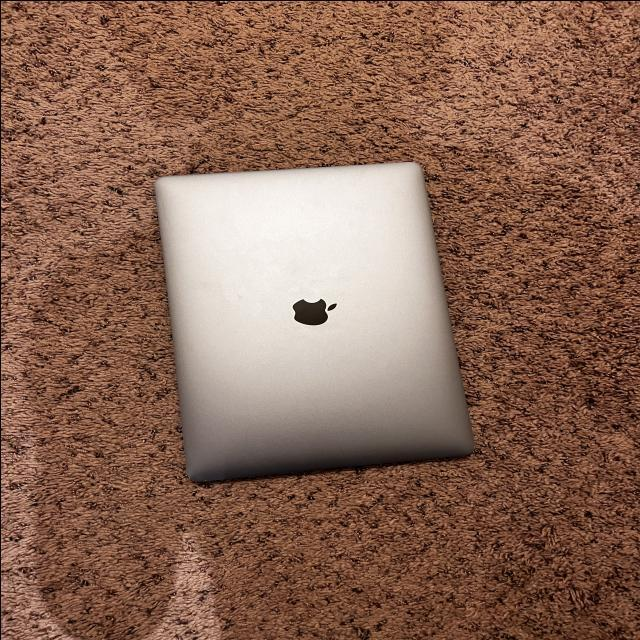laptop: (154, 159, 475, 484)
